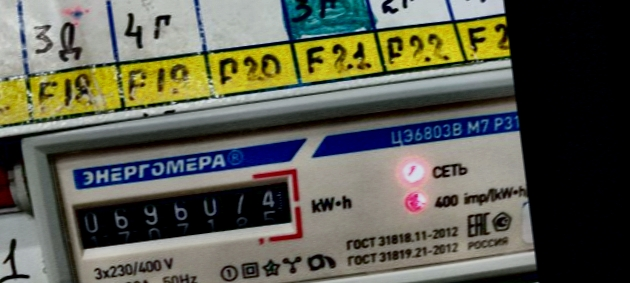0: (78, 207, 100, 233), (199, 190, 218, 217)
4: (257, 183, 275, 207)
5: (261, 208, 279, 224)
6: (171, 194, 191, 221), (110, 203, 130, 229)
7: (229, 187, 249, 214)
9: (140, 199, 159, 226)
screen: (60, 163, 307, 261)
